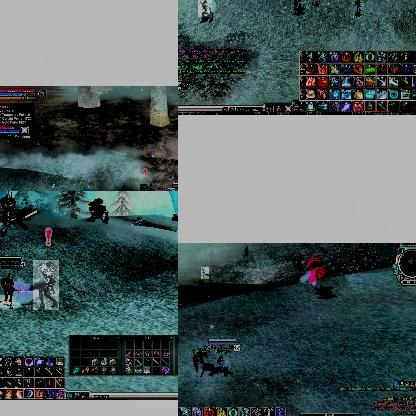caliana: (33, 260, 59, 310), (192, 350, 208, 370), (198, 0, 212, 17), (292, 0, 304, 9), (140, 183, 152, 191), (201, 267, 209, 279), (294, 256, 302, 268), (243, 246, 249, 256)
